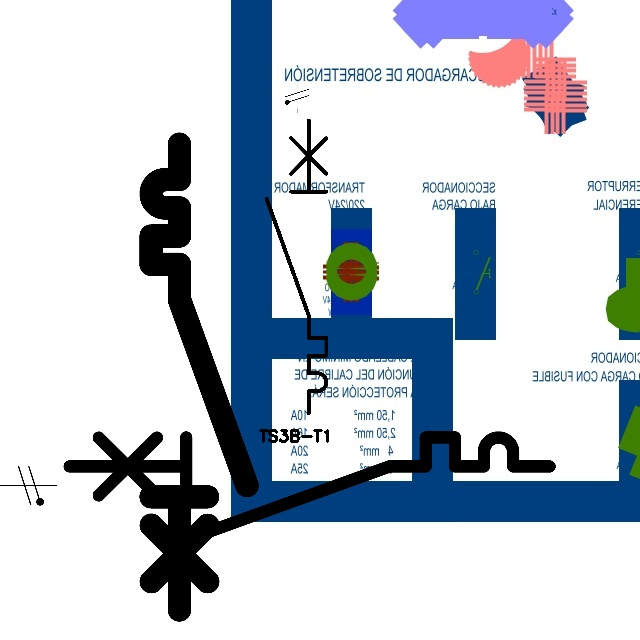interruptor_termomagnetico: (57, 425, 562, 548), (139, 132, 259, 622), (259, 112, 334, 420)
